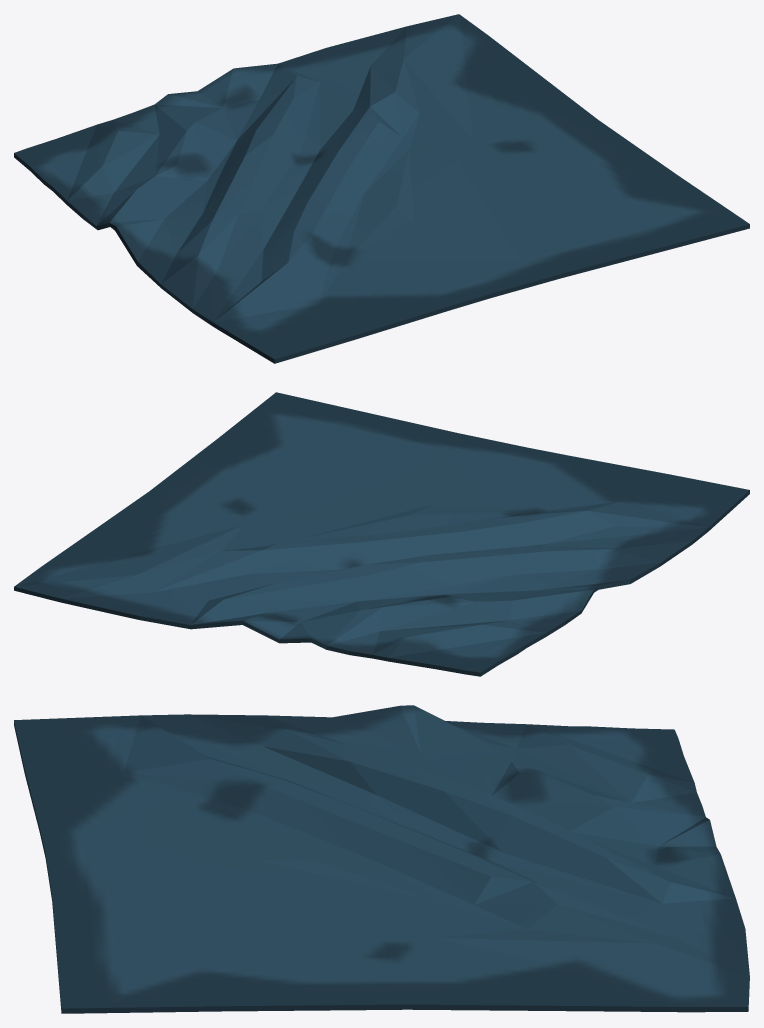
File: SM_Bld_Tarp_Generic_06.obj
The picture shows the model from 3 angles, top to bottom: view 1: azimuth 30°, elevation 25°; view 2: azimuth 150°, elevation 25°; view 3: azimuth 270°, elevation 25°; orthographic projection. The views are drawn at different scales.
Visible parts, largest first — view 1: SM_Bld_Tarp_Generic_06_0; view 2: SM_Bld_Tarp_Generic_06_0; view 3: SM_Bld_Tarp_Generic_06_0.
Boxes of the visible parts, x1,y1,x2,y2 form: SM_Bld_Tarp_Generic_06_0: (14,14,749,363); SM_Bld_Tarp_Generic_06_0: (14,392,749,676); SM_Bld_Tarp_Generic_06_0: (14,705,749,1013).
Size of the model in its own units: 4.2 by 0.216 by 4.45.
Materials: 1 (1 with a texture image).
